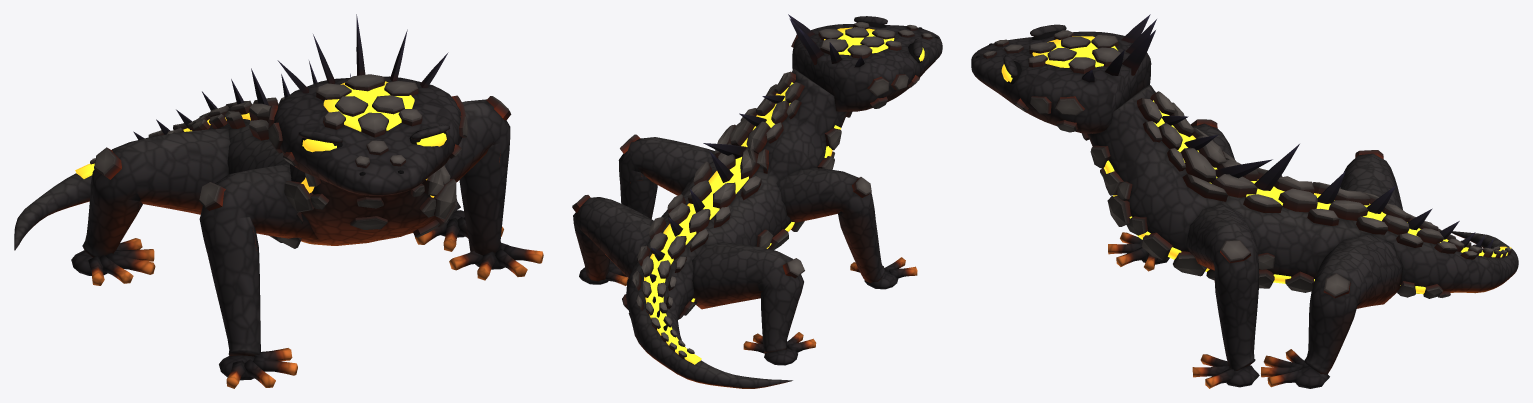
The model's file is salamander.fbx.
3 renders of one model, left to right at view 1: azimuth 30°, elevation 25°; view 2: azimuth 150°, elevation 25°; view 3: azimuth 270°, elevation 25°, orthographic. The views are drawn at different scales.
Parts seen in each view (by area): view 1: Salamander_Body, Salamander_GLOW; view 2: Salamander_Body, Salamander_GLOW; view 3: Salamander_Body, Salamander_GLOW.
Boxes of the visible parts, x1,y1,x2,y2 form: Salamander_Body: (14, 14, 543, 388); Salamander_GLOW: (75, 81, 446, 197); Salamander_Body: (572, 14, 942, 388); Salamander_GLOW: (644, 27, 924, 364); Salamander_Body: (971, 14, 1518, 388); Salamander_GLOW: (1001, 36, 1511, 294).
Bounding box in the file's own units: 4.42 × 3.61 × 6.48.
Materials: 2 (1 with a texture image).
